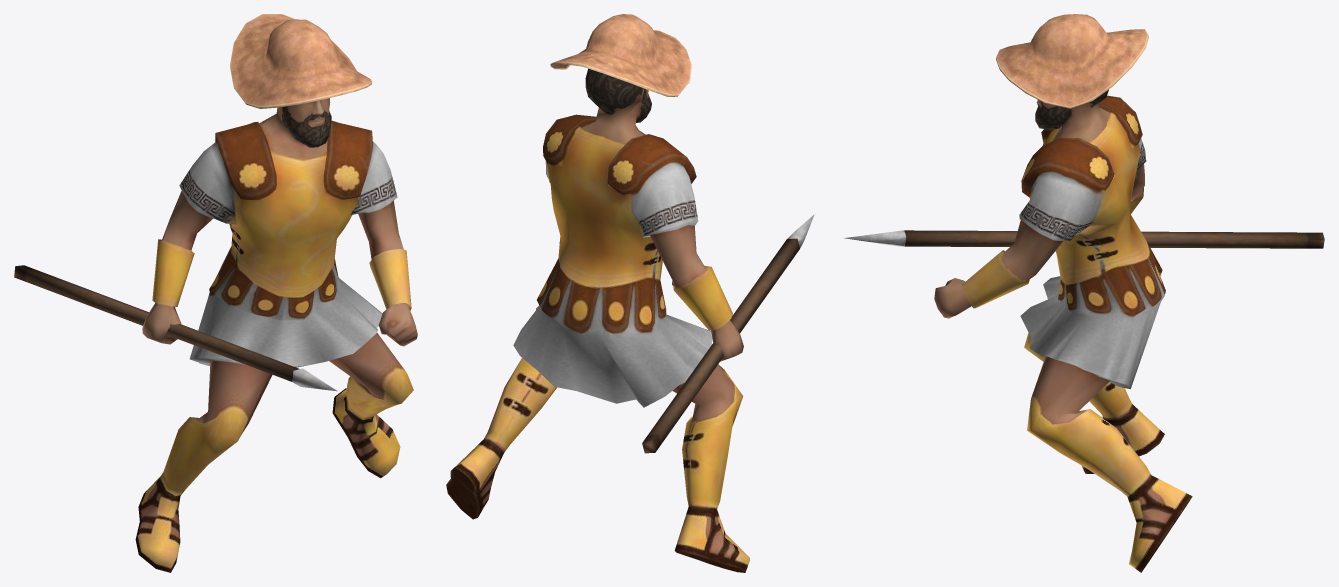
File: rider-championcavalry.glb
3 renders of one model, left to right at view 1: azimuth 30°, elevation 25°; view 2: azimuth 150°, elevation 25°; view 3: azimuth 270°, elevation 25°, orthographic.
Size of the model in its own units: 1.22 by 2.06 by 1.74.
Materials: 3 (3 with a texture image).
